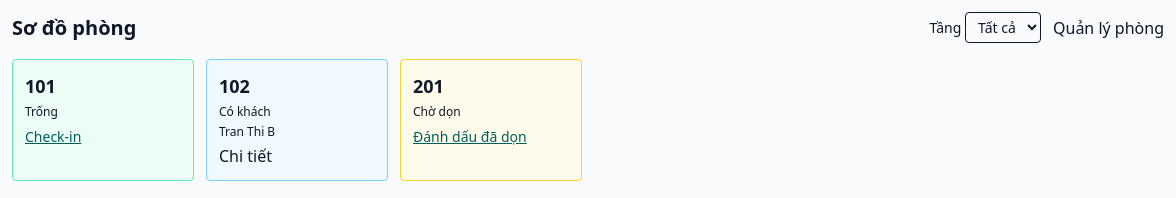
Test: RoomBoard › filters by floor
Expected: the list item with test id "room-101" is shown, [12,59,194,181]
Select "2" in the dropdown labelled "Tầng": [1003, 28] box [965,12,1041,43]
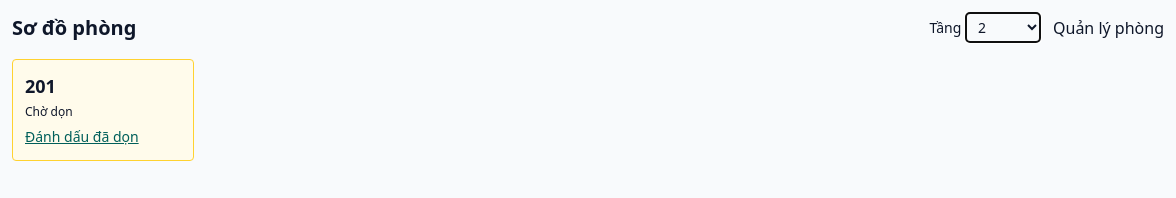
Expected: the list item with test id "room-201" is shown, [12,59,194,161]
Now the list item with test id "room-101" is gone
